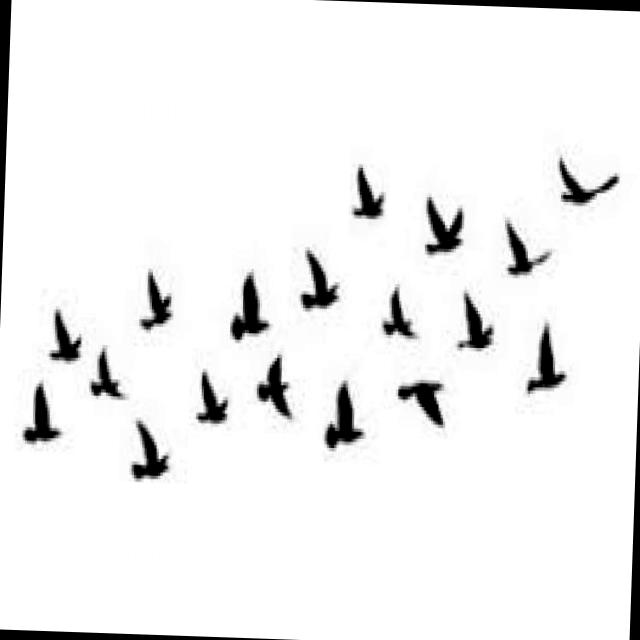bird: (515, 315, 577, 395), (548, 152, 622, 216), (288, 239, 348, 315), (491, 210, 557, 278), (417, 190, 477, 264), (448, 288, 513, 356), (314, 376, 369, 454), (367, 282, 424, 356), (226, 268, 282, 342), (248, 349, 303, 423), (386, 370, 452, 431), (18, 382, 74, 447), (41, 301, 93, 366), (180, 369, 236, 426), (126, 416, 170, 486), (135, 268, 180, 334), (348, 159, 392, 223), (88, 342, 132, 402)
